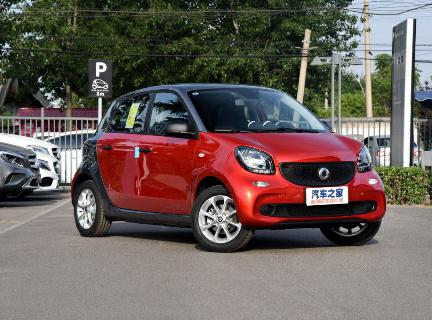smart-forfour: (62, 85, 393, 254)
